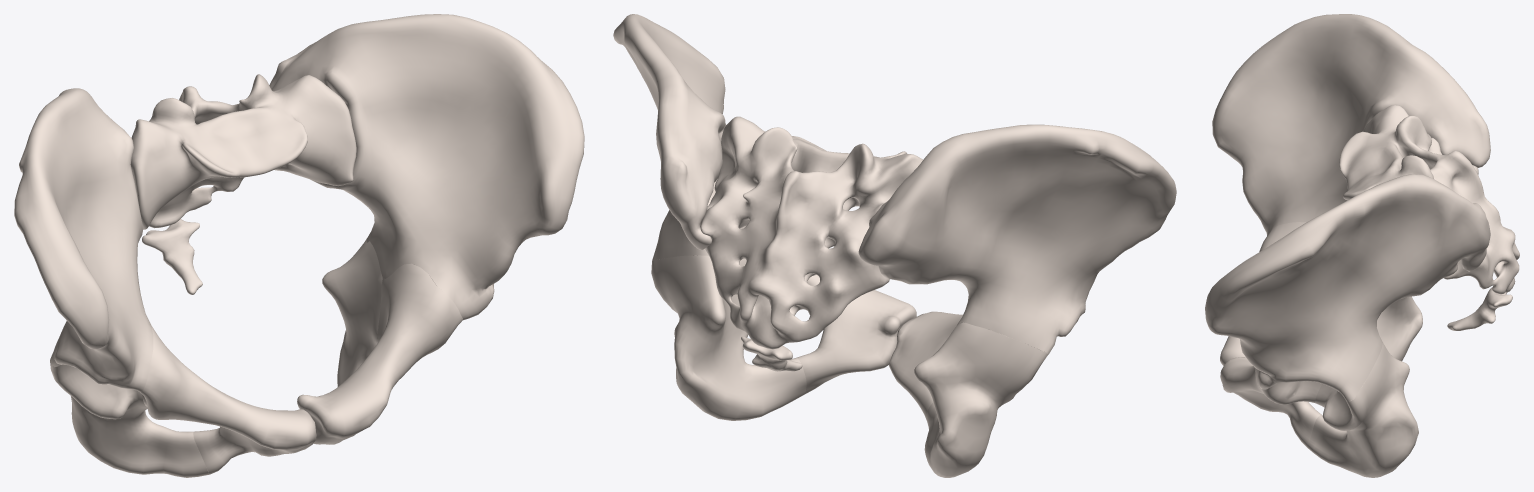
The model's file is VH_F_Pelvis.glb.
3 renders of one model, left to right at view 1: azimuth 30°, elevation 25°; view 2: azimuth 150°, elevation 25°; view 3: azimuth 270°, elevation 25°, orthographic. The views are drawn at different scales.
Parts seen in each view (by area): view 1: VH_F_ilium_compact_bone_L, VH_F_ilium_compact_bone_R, VH_F_sacrum, VH_F_pubis_compact_bone_L, VH_F_pubis_compact_bone_R, VH_F_ischium_compact_bone_R, VH_F_ischium_compact_bone_L, VH_F_coccyx; view 2: VH_F_ilium_compact_bone_R, VH_F_sacrum, VH_F_ilium_compact_bone_L, VH_F_ischium_compact_bone_L, VH_F_ischium_compact_bone_R, VH_F_pubis_compact_bone_L, VH_F_pubis_compact_bone_R, VH_F_coccyx; view 3: VH_F_ilium_compact_bone_L, VH_F_ilium_compact_bone_R, VH_F_sacrum, VH_F_ischium_compact_bone_L, VH_F_pubis_compact_bone_L, VH_F_ischium_compact_bone_R, VH_F_coccyx, VH_F_pubis_compact_bone_R.
Part boxes in pixels (x1=…): VH_F_ilium_compact_bone_L: x1=269, y1=14, x2=584, y2=320; VH_F_ilium_compact_bone_R: x1=14, y1=88, x2=153, y2=392; VH_F_sacrum: x1=130, y1=74, x2=356, y2=229; VH_F_pubis_compact_bone_L: x1=297, y1=263, x2=462, y2=444; VH_F_pubis_compact_bone_R: x1=140, y1=325, x2=316, y2=474; VH_F_ischium_compact_bone_R: x1=50, y1=364, x2=209, y2=477; VH_F_ischium_compact_bone_L: x1=322, y1=238, x2=382, y2=436; VH_F_coccyx: x1=142, y1=219, x2=202, y2=294; VH_F_ilium_compact_bone_R: x1=858, y1=124, x2=1176, y2=354; VH_F_sacrum: x1=700, y1=116, x2=922, y2=349; VH_F_ilium_compact_bone_L: x1=613, y1=14, x2=745, y2=260; VH_F_ischium_compact_bone_L: x1=651, y1=255, x2=806, y2=420; VH_F_ischium_compact_bone_R: x1=914, y1=322, x2=1048, y2=477; VH_F_pubis_compact_bone_L: x1=740, y1=258, x2=916, y2=393; VH_F_pubis_compact_bone_R: x1=889, y1=311, x2=962, y2=419; VH_F_coccyx: x1=741, y1=336, x2=802, y2=371; VH_F_ilium_compact_bone_L: x1=1205, y1=174, x2=1490, y2=401; VH_F_ilium_compact_bone_R: x1=1212, y1=14, x2=1490, y2=235; VH_F_sacrum: x1=1339, y1=105, x2=1519, y2=294; VH_F_ischium_compact_bone_L: x1=1307, y1=342, x2=1418, y2=477; VH_F_pubis_compact_bone_L: x1=1220, y1=357, x2=1321, y2=447; VH_F_ischium_compact_bone_R: x1=1377, y1=296, x2=1422, y2=361; VH_F_coccyx: x1=1447, y1=287, x2=1512, y2=330; VH_F_pubis_compact_bone_R: x1=1220, y1=222, x2=1305, y2=365.
Size of the model in its own units: 0.3168 by 0.2115 by 0.1827.
